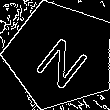N_NE: (28, 23, 93, 87)
